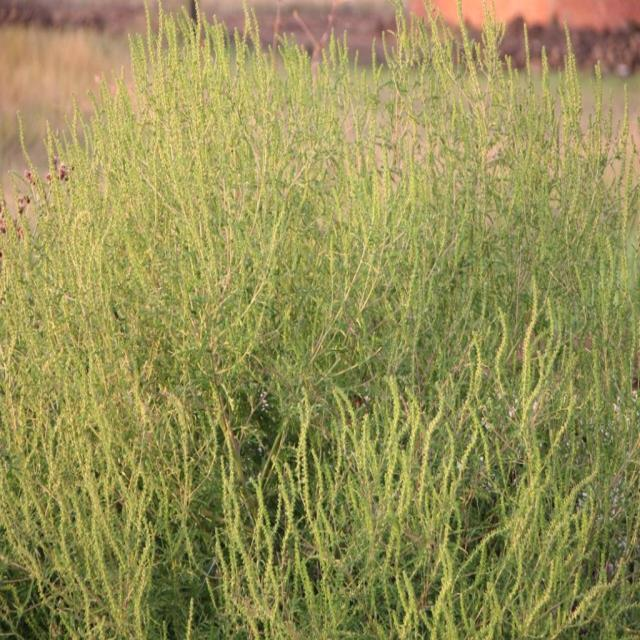ambrosia: (115, 16, 283, 228), (36, 383, 156, 630), (479, 287, 594, 524), (400, 12, 556, 170), (13, 111, 102, 321), (210, 454, 312, 634), (176, 238, 282, 408), (374, 382, 444, 559)
